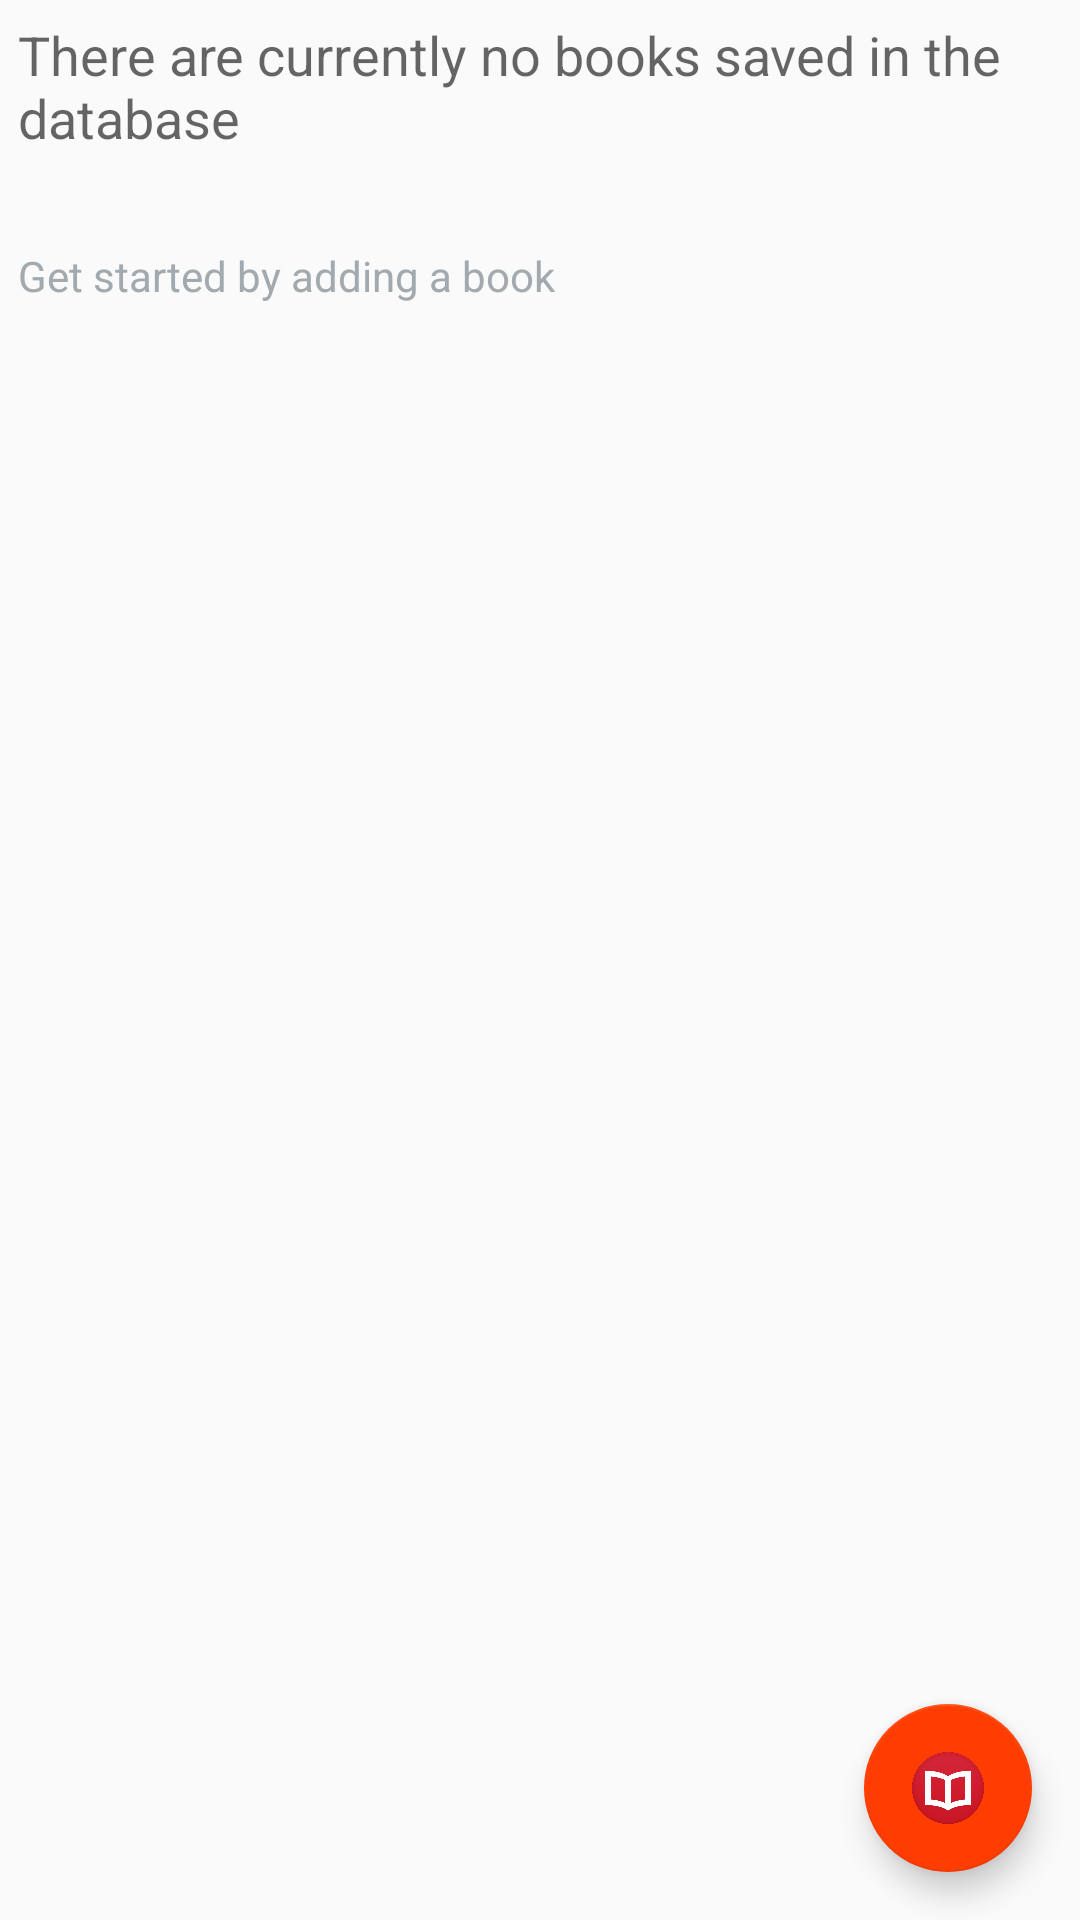

Point at icon controls on the screen. Image size 1080px×1920px, points as (x,y).
add book: (948,1788)
